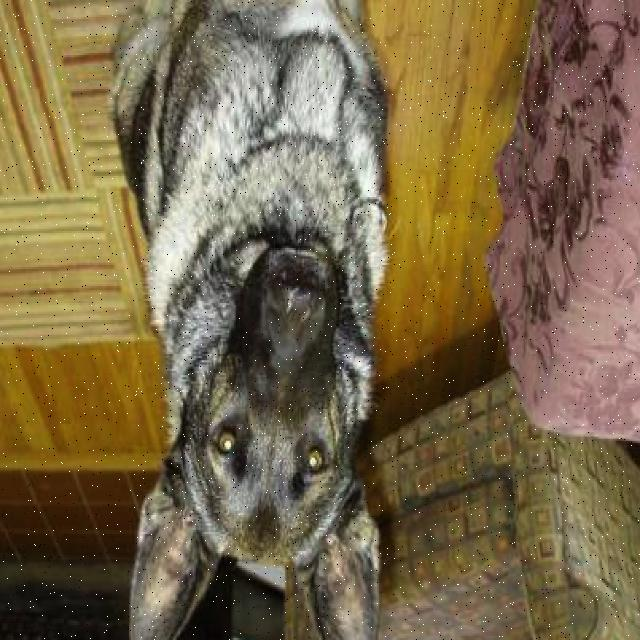Dog: (123, 233, 390, 640)
